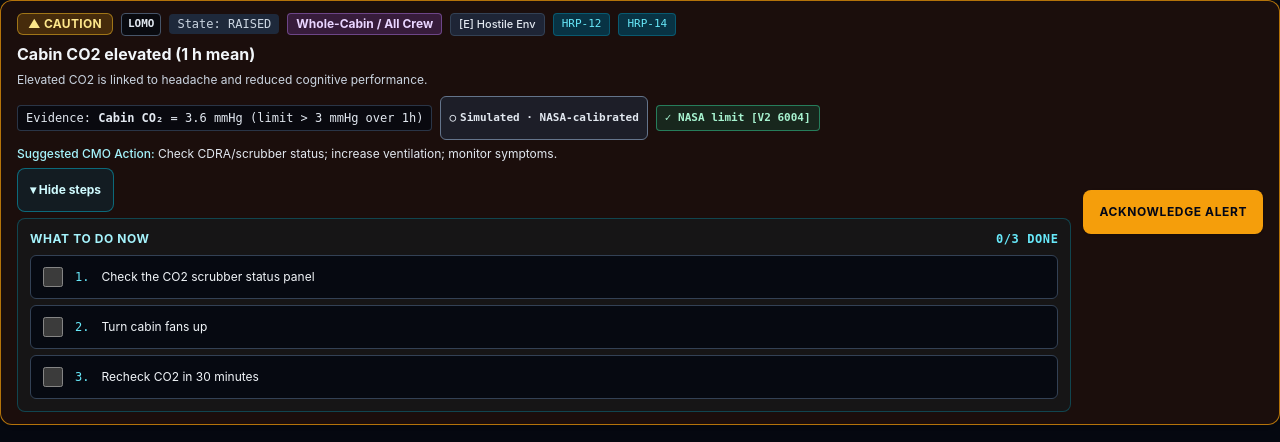
Test case: F-007 crew usability › AlertBanner shows the NASA clause, data source and the checklist inline (1 tap to hide)
Expected: the element with test id "alert-banner" shows "Simulated · NASA-calibrated", [440, 96, 648, 140]
Expected: the element with test id "checklist-alert-co2-verified" shows "Turn cabin fans up", [102, 318, 207, 334]
Click the button "▾ Hide steps" at [66, 190], box [17, 168, 114, 212]
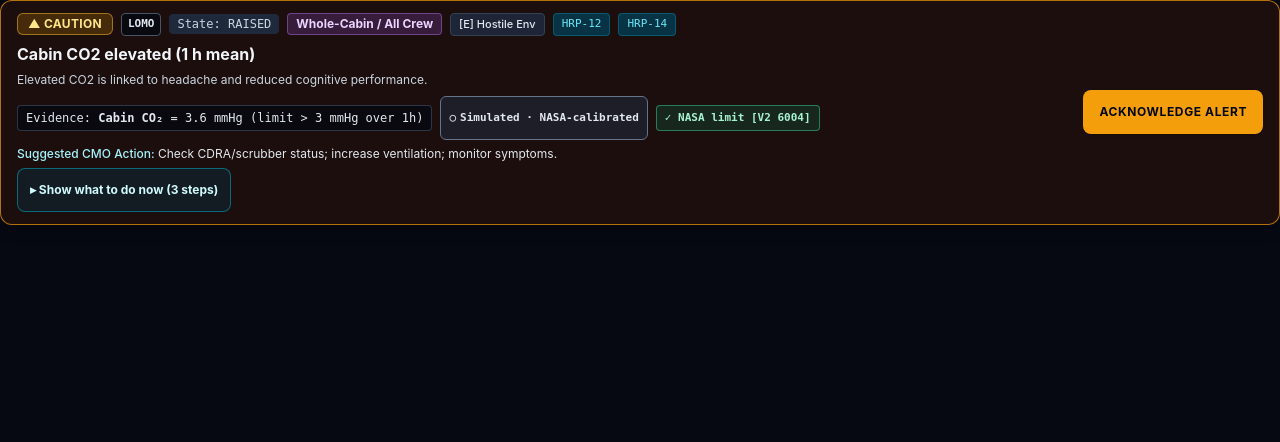
Result: the element with test id "checklist-alert-co2-verified" is gone
Click the button "▸ Show what to do now (3 steps)" at [124, 190], box [17, 168, 231, 212]
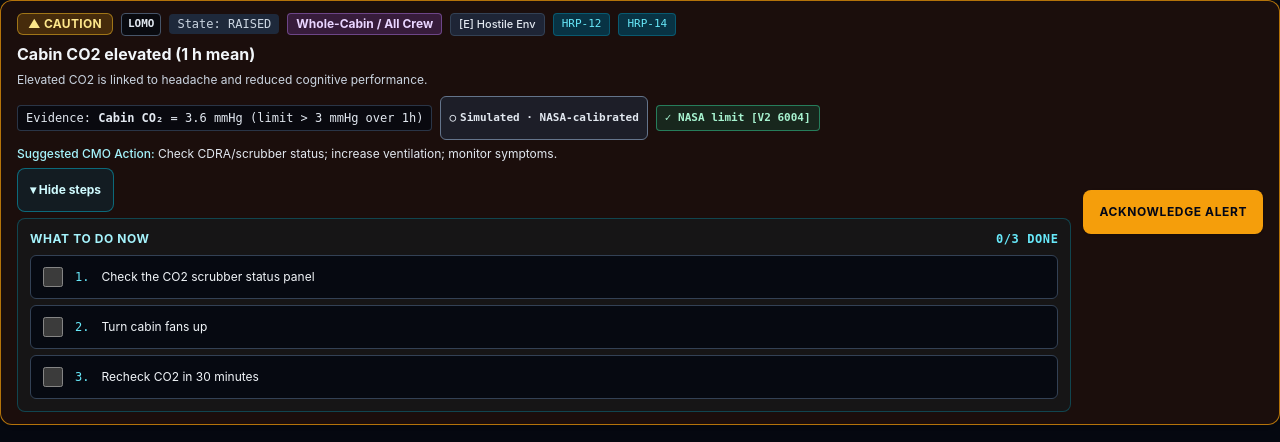
Result: the element with test id "checklist-alert-co2-verified" is shown at [17, 218, 1072, 412]
